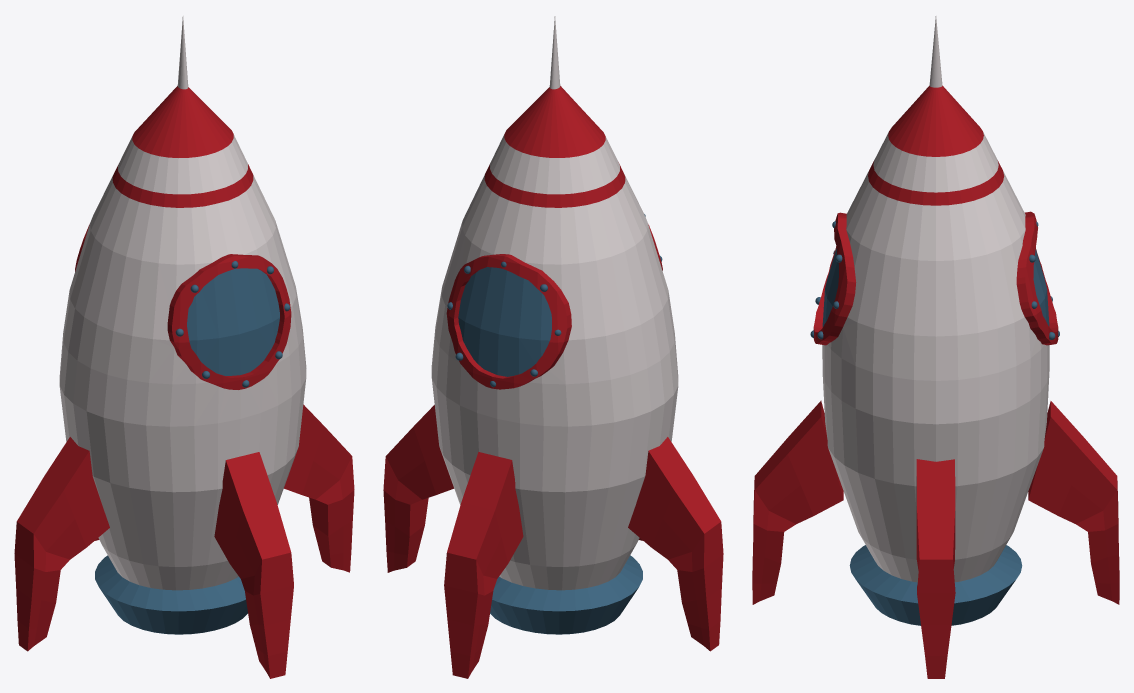
Rendered from Rocket.fbx.
3 views of the same model, side by side, from view 1: azimuth 30°, elevation 25°; view 2: azimuth 150°, elevation 25°; view 3: azimuth 270°, elevation 25° (orthographic).
Parts seen in each view (by area): view 1: Cylinder.002; view 2: Cylinder.002; view 3: Cylinder.002.
Part boxes in pixels (box(x1,y1,x2,y2)): Cylinder.002: box(14, 16, 354, 678); Cylinder.002: box(383, 16, 723, 678); Cylinder.002: box(752, 16, 1119, 678).
Bounding box in the file's own units: 2.43 × 4.29 × 2.43.
